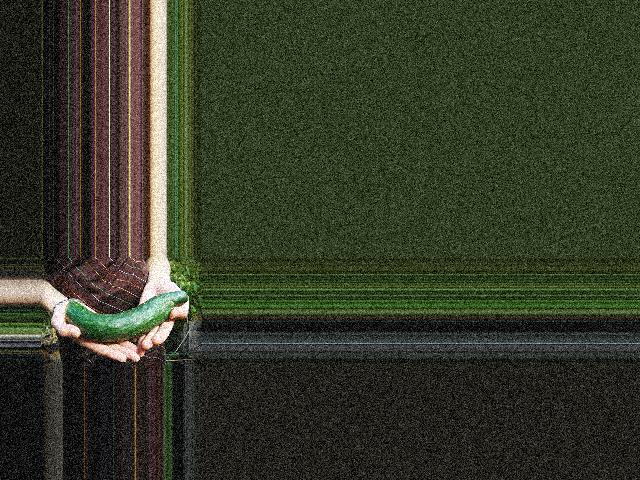cucumber: (64, 291, 187, 342)
